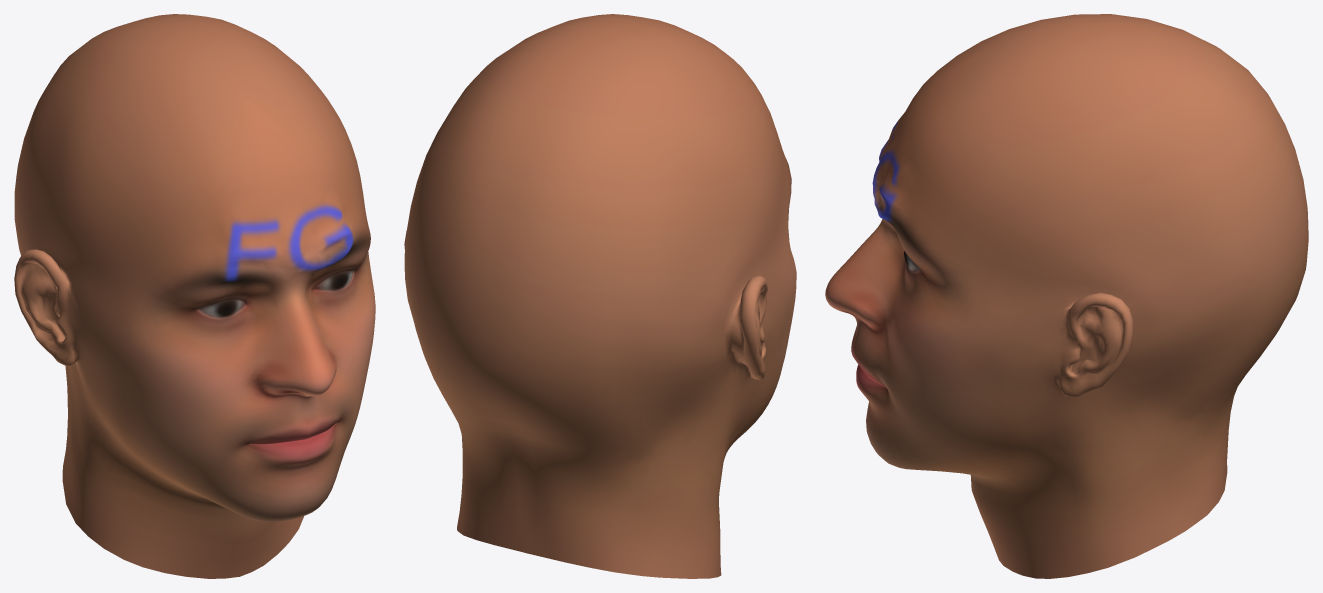
Rendered from avg_anyrace_male.obj.
3 views of the same model, side by side, from view 1: azimuth 30°, elevation 25°; view 2: azimuth 150°, elevation 25°; view 3: azimuth 270°, elevation 25° (orthographic). The views are drawn at different scales.
Parts seen in each view (by area): view 1: HeadHires; view 2: HeadHires; view 3: HeadHires.
Part boxes in pixels (box(x1,y1,x2,y2)): HeadHires: box(14, 14, 375, 578); HeadHires: box(404, 14, 796, 578); HeadHires: box(825, 14, 1308, 578).
Bounding box in the file's own units: 189 × 283 × 236.
Materials: 1 (1 with a texture image).
